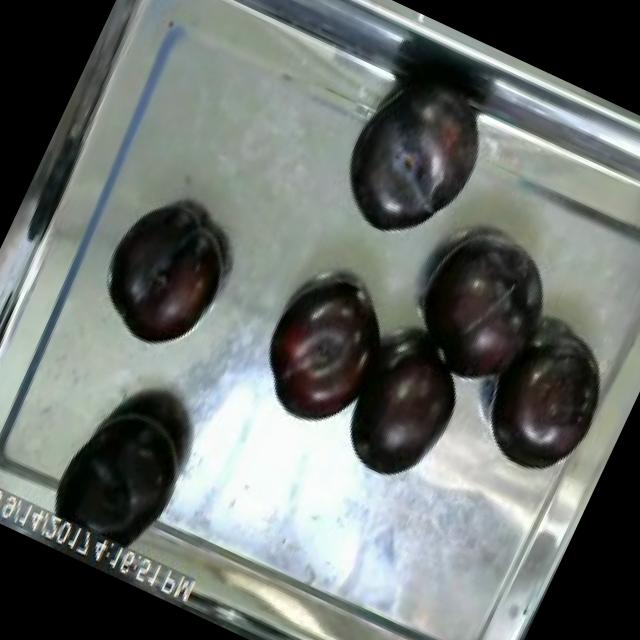Fruit: (318, 62, 504, 262), (389, 224, 570, 409), (38, 382, 208, 568), (236, 256, 404, 444), (80, 189, 248, 368), (466, 321, 622, 489), (328, 332, 474, 496)
